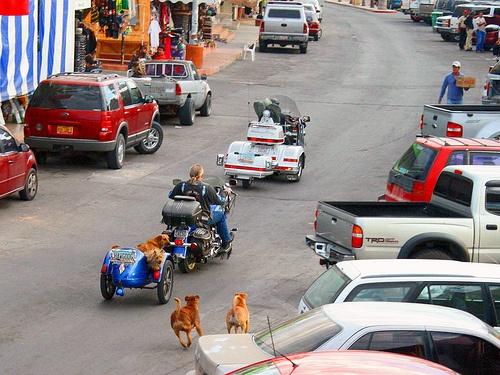non-vehicle: (216, 97, 309, 188), (161, 178, 237, 273)
